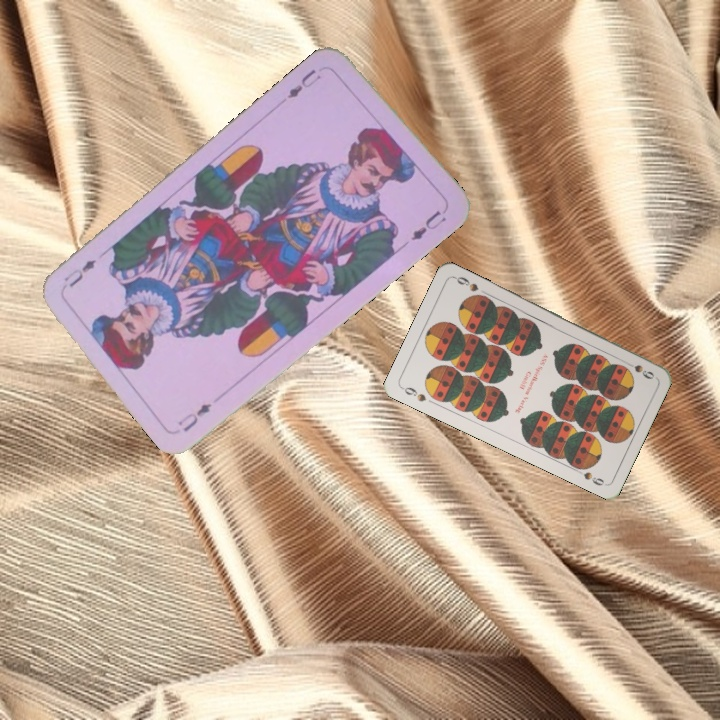EU: (282, 65, 324, 102), (173, 399, 214, 435)
S9: (619, 356, 657, 382), (398, 383, 429, 404)
